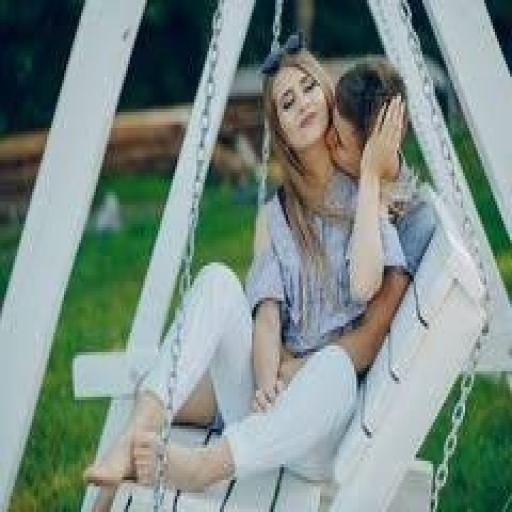sitting: (83, 32, 420, 499)
